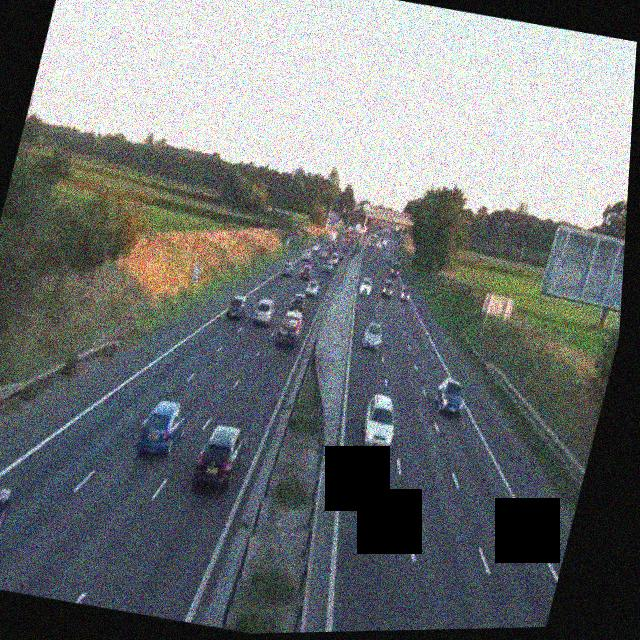car: (190, 421, 249, 496), (133, 396, 190, 461), (357, 392, 401, 453), (432, 376, 470, 419), (0, 470, 14, 585), (276, 313, 304, 347), (251, 295, 278, 325), (361, 319, 386, 351), (226, 295, 250, 322), (287, 291, 309, 318), (304, 278, 321, 299), (359, 278, 373, 298), (299, 262, 313, 281), (380, 280, 394, 299), (397, 285, 411, 303), (281, 259, 295, 276), (323, 258, 336, 274), (306, 245, 318, 259)
